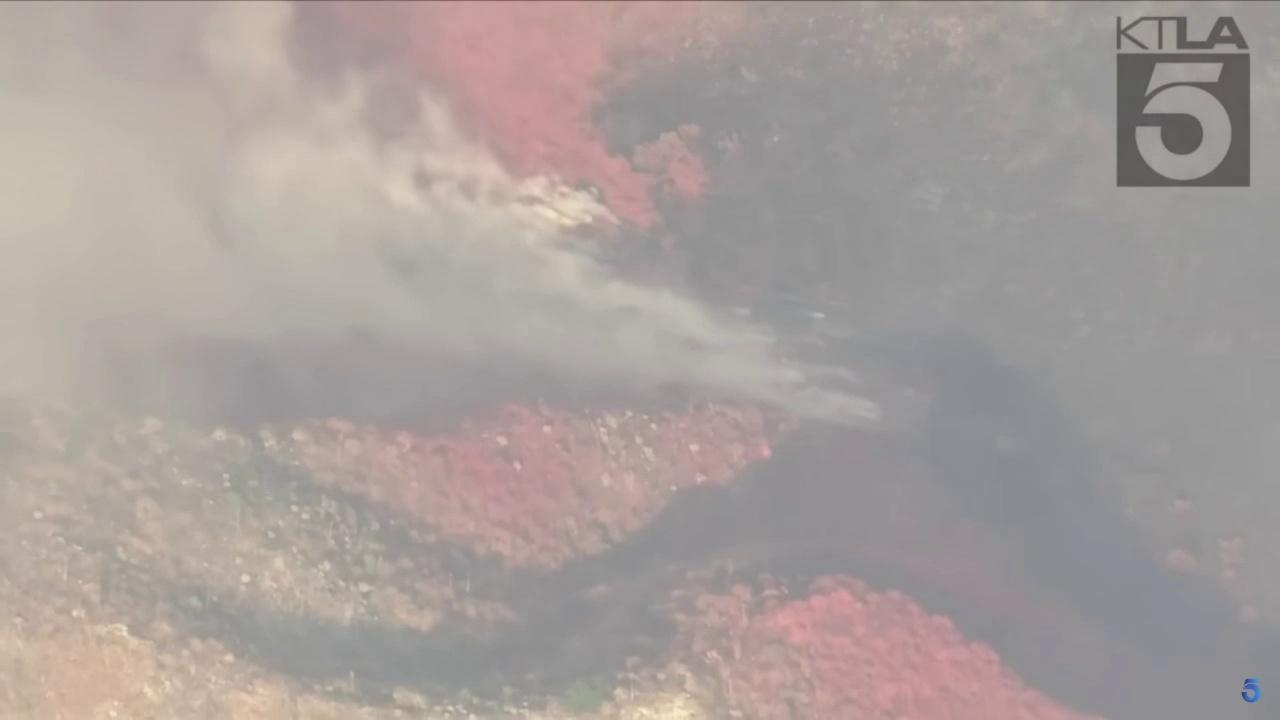smoke: (0, 0, 882, 432)
